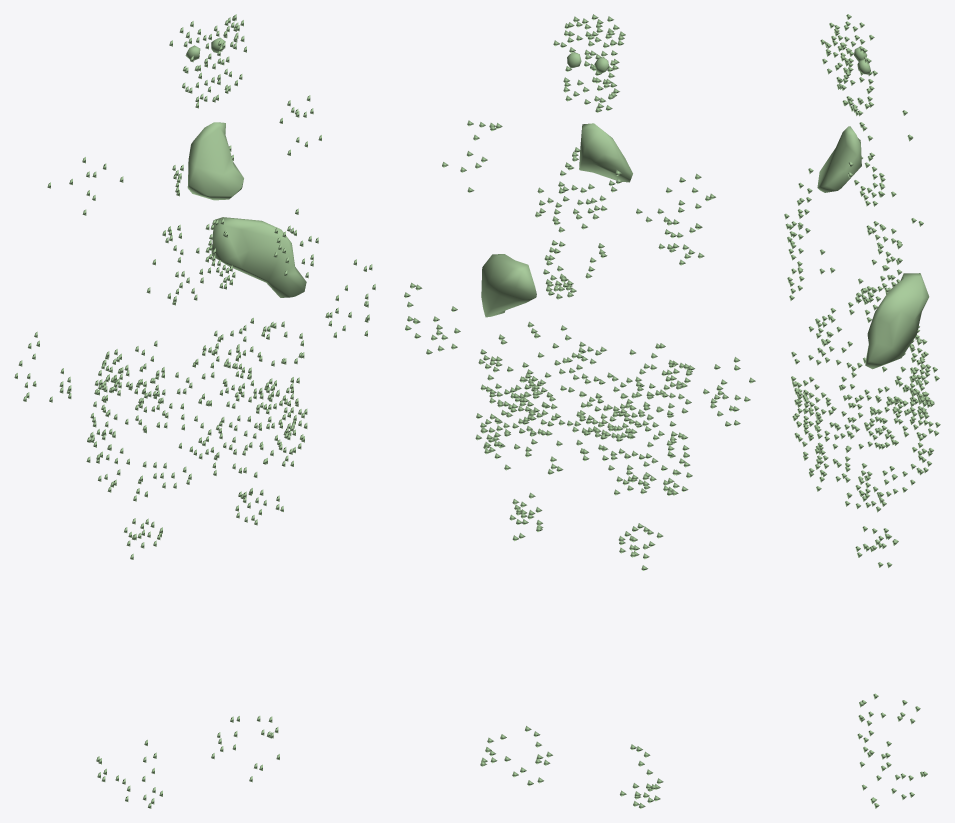
Rendered from pediatric_child_5y_female.lymphatic.LOD3.glb.
3 views of the same model, side by side, from view 1: azimuth 30°, elevation 25°; view 2: azimuth 150°, elevation 25°; view 3: azimuth 270°, elevation 25° (orthographic). The views are drawn at different scales.
Visible parts, largest first — view 1: PEDIATRIC.CHILD_5Y.FEMALE.LYMPHATIC.LYMPHATIC_NODES_TRUNK, PEDIATRIC.CHILD_5Y.FEMALE.LYMPHATIC.SPLEEN, PEDIATRIC.CHILD_5Y.FEMALE.LYMPHATIC.THYMUS, PEDIATRIC.CHILD_5Y.FEMALE.LYMPHATIC.LYMPHATIC_NODES_ET, PEDIATRIC.CHILD_5Y.FEMALE.LYMPHATIC.LYMPHATIC_NODES_THORACIC, PEDIATRIC.CHILD_5Y.FEMALE.LYMPHATIC.LYMPHATIC_NODES_LEGS, PEDIATRIC.CHILD_5Y.FEMALE.LYMPHATIC.LYMPHATIC_NODES_ARMS; view 2: PEDIATRIC.CHILD_5Y.FEMALE.LYMPHATIC.LYMPHATIC_NODES_TRUNK, PEDIATRIC.CHILD_5Y.FEMALE.LYMPHATIC.SPLEEN, PEDIATRIC.CHILD_5Y.FEMALE.LYMPHATIC.THYMUS, PEDIATRIC.CHILD_5Y.FEMALE.LYMPHATIC.LYMPHATIC_NODES_ET, PEDIATRIC.CHILD_5Y.FEMALE.LYMPHATIC.LYMPHATIC_NODES_THORACIC, PEDIATRIC.CHILD_5Y.FEMALE.LYMPHATIC.LYMPHATIC_NODES_ARMS, PEDIATRIC.CHILD_5Y.FEMALE.LYMPHATIC.LYMPHATIC_NODES_LEGS; view 3: PEDIATRIC.CHILD_5Y.FEMALE.LYMPHATIC.LYMPHATIC_NODES_TRUNK, PEDIATRIC.CHILD_5Y.FEMALE.LYMPHATIC.SPLEEN, PEDIATRIC.CHILD_5Y.FEMALE.LYMPHATIC.THYMUS, PEDIATRIC.CHILD_5Y.FEMALE.LYMPHATIC.LYMPHATIC_NODES_ET, PEDIATRIC.CHILD_5Y.FEMALE.LYMPHATIC.LYMPHATIC_NODES_THORACIC, PEDIATRIC.CHILD_5Y.FEMALE.LYMPHATIC.LYMPHATIC_NODES_LEGS, PEDIATRIC.CHILD_5Y.FEMALE.LYMPHATIC.LYMPHATIC_NODES_ARMS, PEDIATRIC.CHILD_5Y.FEMALE.LYMPHATIC.LYMPHATIC_NODES_HEAD.
Boxes of the visible parts, x1,y1,x2,y2 form: PEDIATRIC.CHILD_5Y.FEMALE.LYMPHATIC.LYMPHATIC_NODES_TRUNK: (47,95,321,559); PEDIATRIC.CHILD_5Y.FEMALE.LYMPHATIC.SPLEEN: (211,217,306,297); PEDIATRIC.CHILD_5Y.FEMALE.LYMPHATIC.THYMUS: (187,122,243,200); PEDIATRIC.CHILD_5Y.FEMALE.LYMPHATIC.LYMPHATIC_NODES_ET: (169,14,246,85); PEDIATRIC.CHILD_5Y.FEMALE.LYMPHATIC.LYMPHATIC_NODES_THORACIC: (165,145,235,289); PEDIATRIC.CHILD_5Y.FEMALE.LYMPHATIC.LYMPHATIC_NODES_LEGS: (96,716,279,808); PEDIATRIC.CHILD_5Y.FEMALE.LYMPHATIC.LYMPHATIC_NODES_ARMS: (14,259,375,402); PEDIATRIC.CHILD_5Y.FEMALE.LYMPHATIC.LYMPHATIC_NODES_TRUNK: (442,120,715,570); PEDIATRIC.CHILD_5Y.FEMALE.LYMPHATIC.SPLEEN: (481,254,536,317); PEDIATRIC.CHILD_5Y.FEMALE.LYMPHATIC.THYMUS: (579,123,632,182); PEDIATRIC.CHILD_5Y.FEMALE.LYMPHATIC.LYMPHATIC_NODES_ET: (553,14,625,90); PEDIATRIC.CHILD_5Y.FEMALE.LYMPHATIC.LYMPHATIC_NODES_THORACIC: (543,147,622,299); PEDIATRIC.CHILD_5Y.FEMALE.LYMPHATIC.LYMPHATIC_NODES_ARMS: (404,282,755,426); PEDIATRIC.CHILD_5Y.FEMALE.LYMPHATIC.LYMPHATIC_NODES_LEGS: (480,726,663,808); PEDIATRIC.CHILD_5Y.FEMALE.LYMPHATIC.LYMPHATIC_NODES_TRUNK: (784,86,940,567); PEDIATRIC.CHILD_5Y.FEMALE.LYMPHATIC.SPLEEN: (865,273,929,369); PEDIATRIC.CHILD_5Y.FEMALE.LYMPHATIC.THYMUS: (817,126,861,192); PEDIATRIC.CHILD_5Y.FEMALE.LYMPHATIC.LYMPHATIC_NODES_ET: (820,14,877,90); PEDIATRIC.CHILD_5Y.FEMALE.LYMPHATIC.LYMPHATIC_NODES_THORACIC: (847,152,902,304); PEDIATRIC.CHILD_5Y.FEMALE.LYMPHATIC.LYMPHATIC_NODES_LEGS: (857,693,927,808); PEDIATRIC.CHILD_5Y.FEMALE.LYMPHATIC.LYMPHATIC_NODES_ARMS: (854,234,901,449); PEDIATRIC.CHILD_5Y.FEMALE.LYMPHATIC.LYMPHATIC_NODES_HEAD: (837,71,871,116).
Size of the model in its own units: 0.3432 by 0.7258 by 0.1357.
